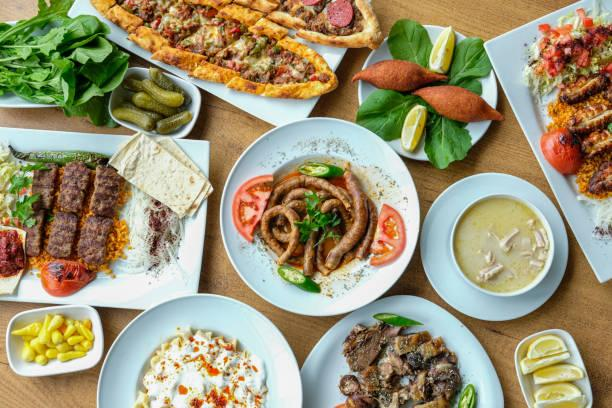Braised Crucian Carp: (219, 117, 415, 319), (1, 126, 212, 312), (420, 172, 568, 322)
